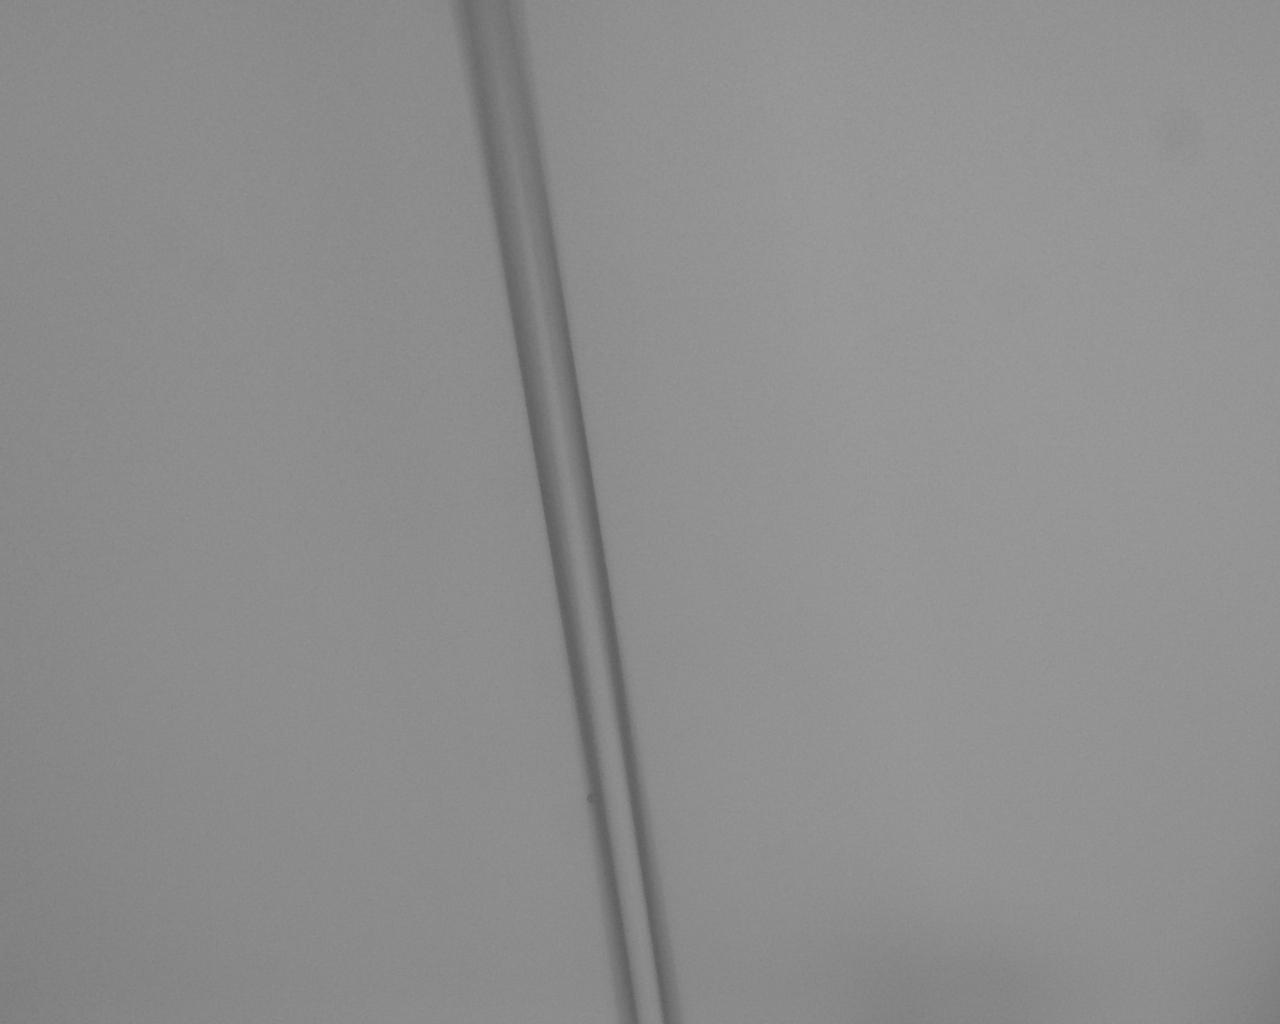fiber: (852, 0, 963, 1024)
